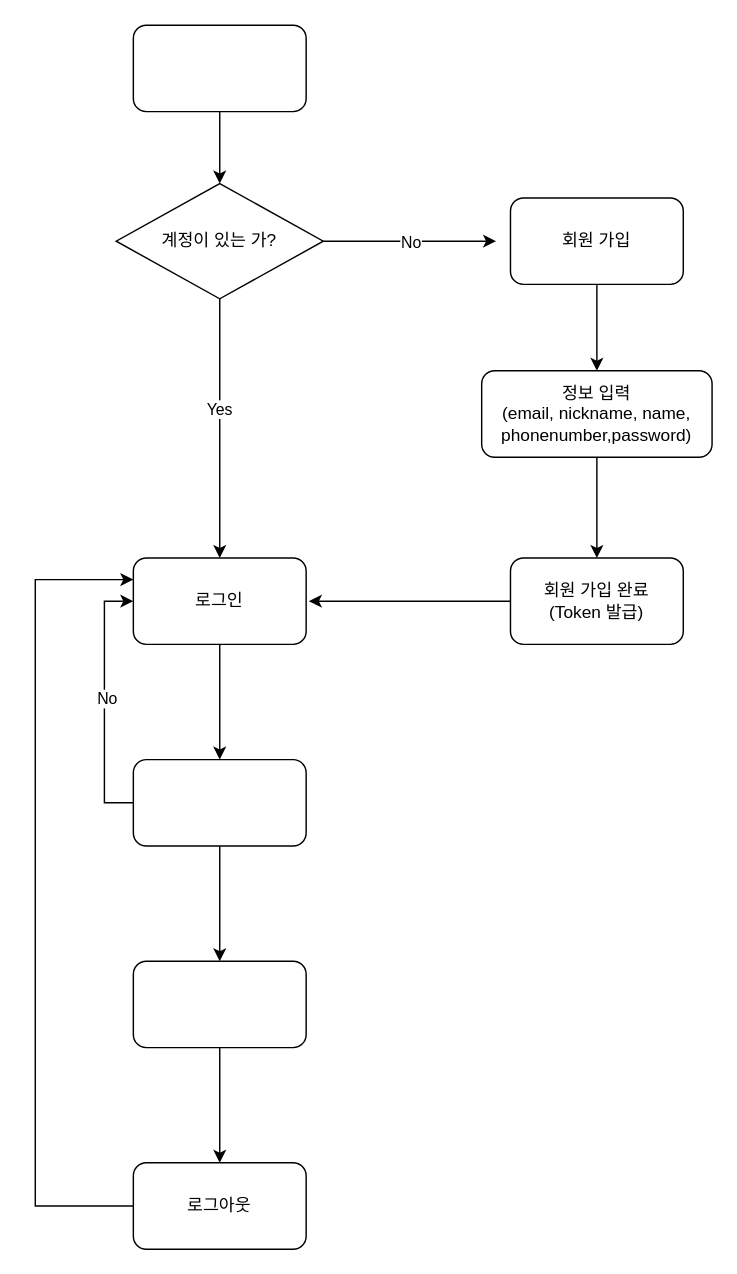
Image size: 737x1274. Some labels were removed from this diagram. The shapes that lost their labels are listed below. From the top down, each one's centre as x and y in pixels, then its label:
At pixel 219 68: "메인 페이지".
At pixel 219 802: "이메일과 비밀번호 입력".
At pixel 219 1004: "로그인 성공 (유저 조회, 수정, 삭제)".
